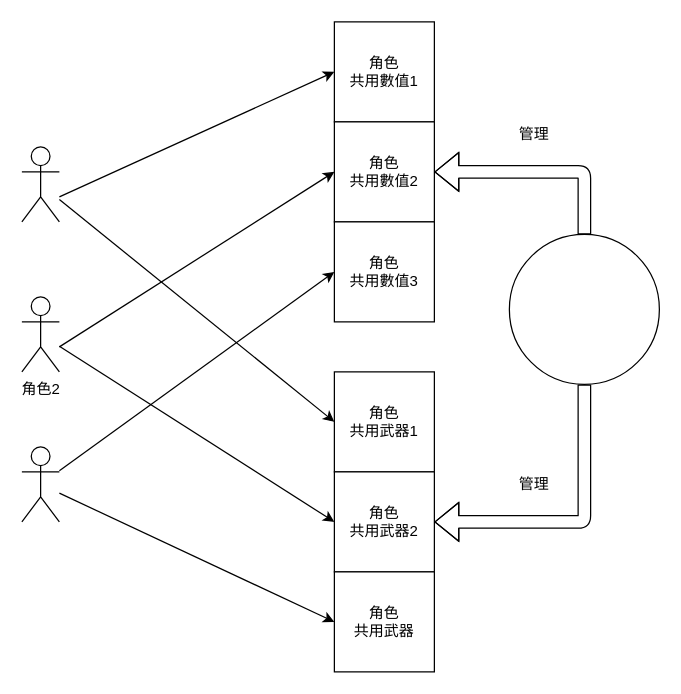
Image size: 681x694. Some labels were removed from this diagram. The shapes that lost their labels are listed below. From the top down, each one's centre as x and y in pixels, then its label:
(x=40, y=184): 角色1
(x=583, y=308): AttrFactory 數值工廠
(x=40, y=484): 角色3
